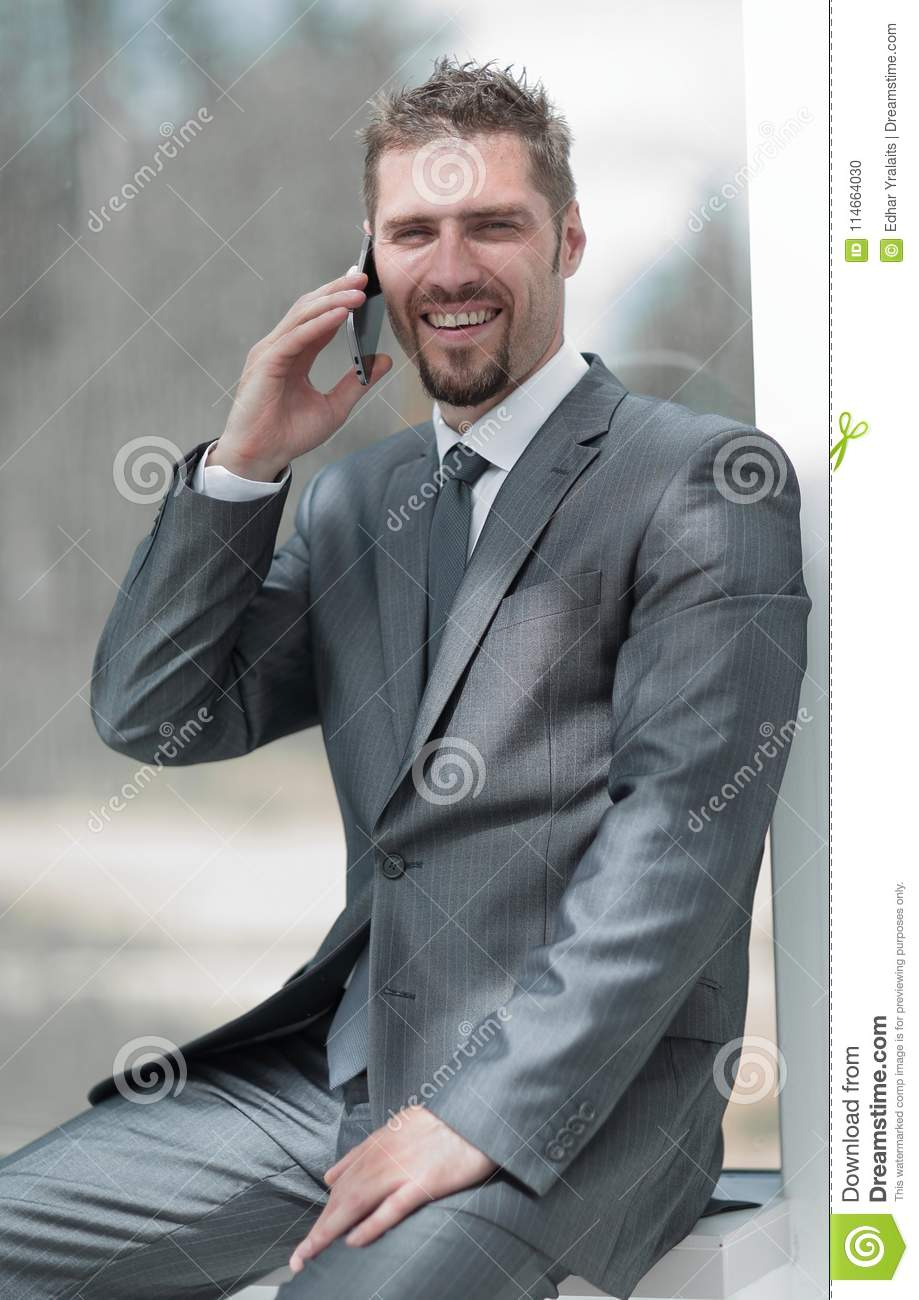phone: (341, 218, 390, 395)
talk: (233, 200, 540, 455)
